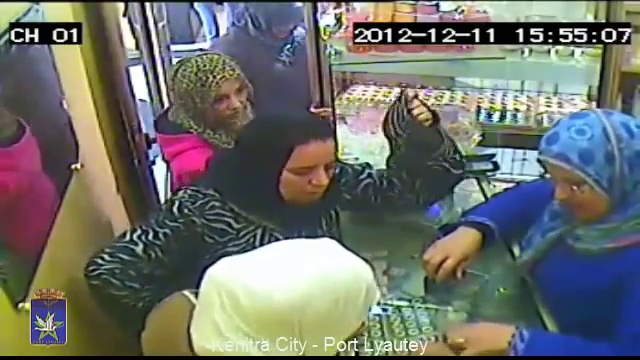face: (538, 154, 611, 218), (267, 150, 333, 204), (207, 77, 249, 127)
